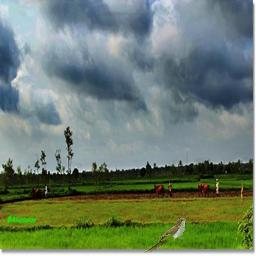Cuckoo: (144, 217, 189, 253)
